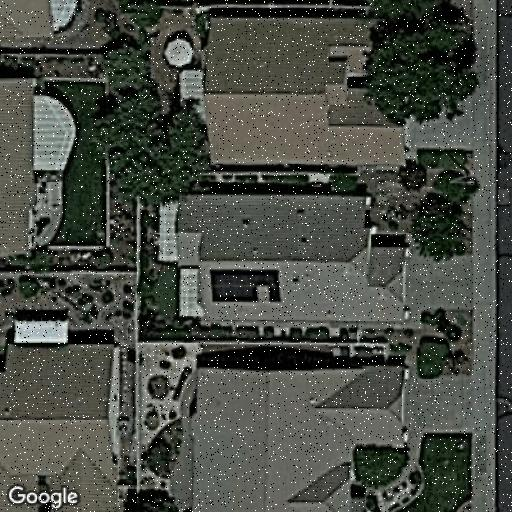solar-panel: (210, 266, 282, 306)
